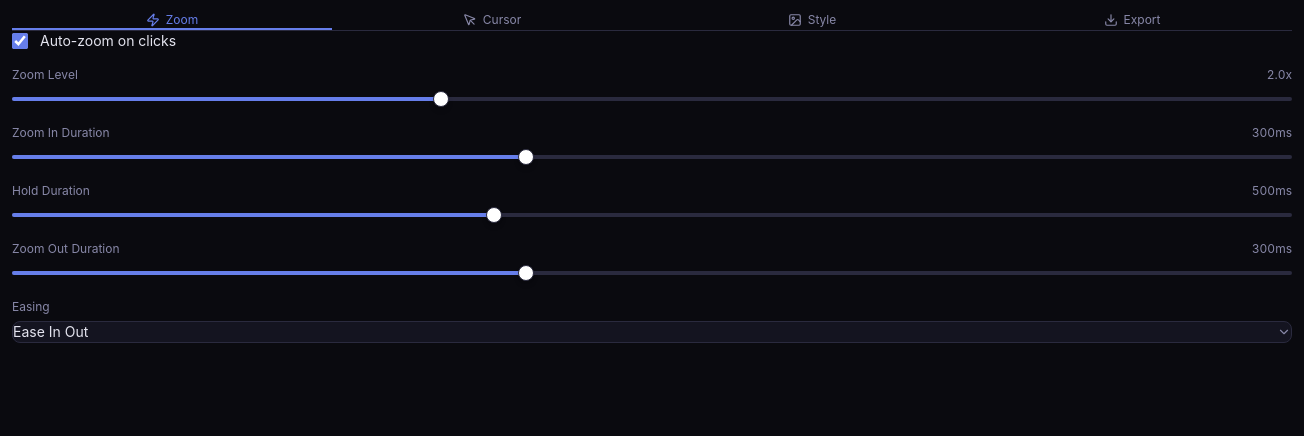
Test: EffectsPanel › clicking Style tab shows gradient presets
This screenshot has width=1304, height=436.
Step 1. Click the tab "Style" → (812, 21), box x1=652 y1=12 x2=972 y2=30
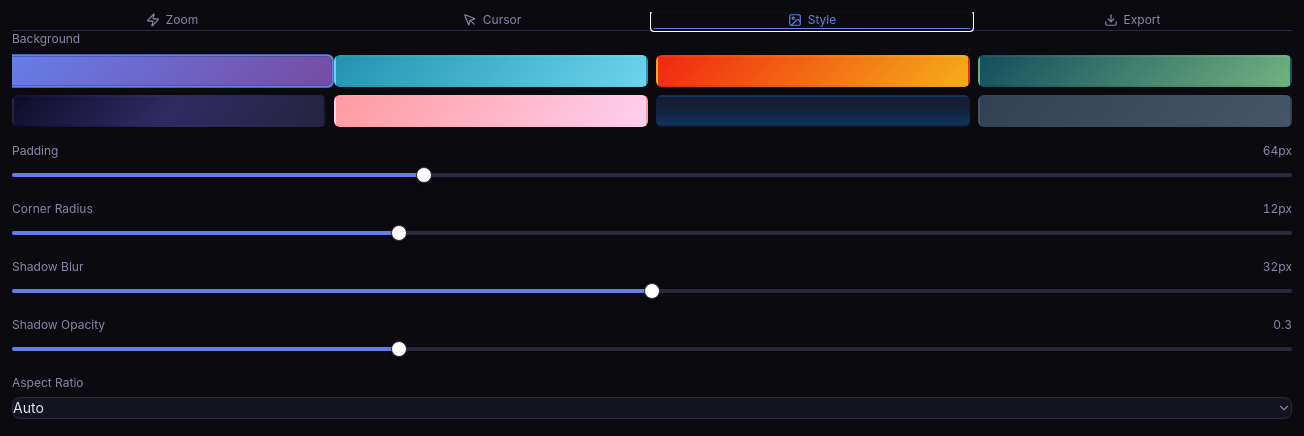
Expected: the text "Background" is shown, x1=12 y1=31 x2=80 y2=46
Expected: the text "Padding" is shown, x1=12 y1=143 x2=58 y2=159
